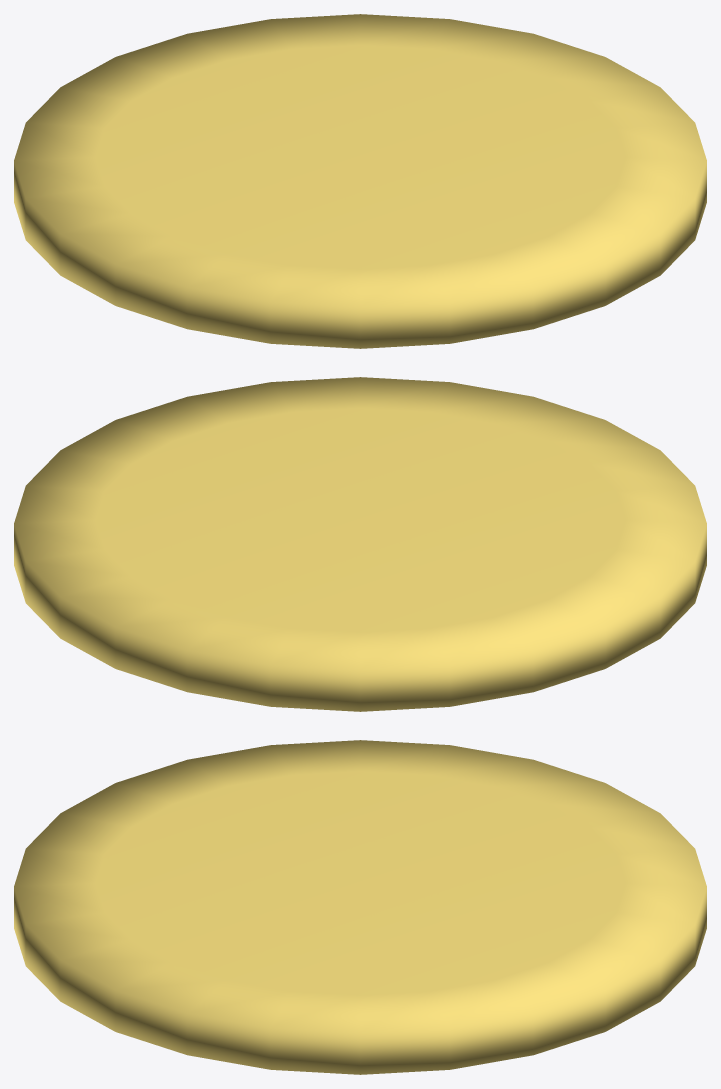
Rendered from gold_coin.fbx.
The picture shows the model from 3 angles, top to bottom: view 1: azimuth 30°, elevation 25°; view 2: azimuth 150°, elevation 25°; view 3: azimuth 270°, elevation 25°; orthographic projection.
Parts seen in each view (by area): view 1: gold_coin; view 2: gold_coin; view 3: gold_coin.
Part boxes in pixels (bbox=[...]): gold_coin: bbox=[14, 14, 706, 348]; gold_coin: bbox=[14, 377, 706, 711]; gold_coin: bbox=[14, 740, 706, 1074].
Size of the model in its own units: 0.3 by 0.0215 by 0.3.
